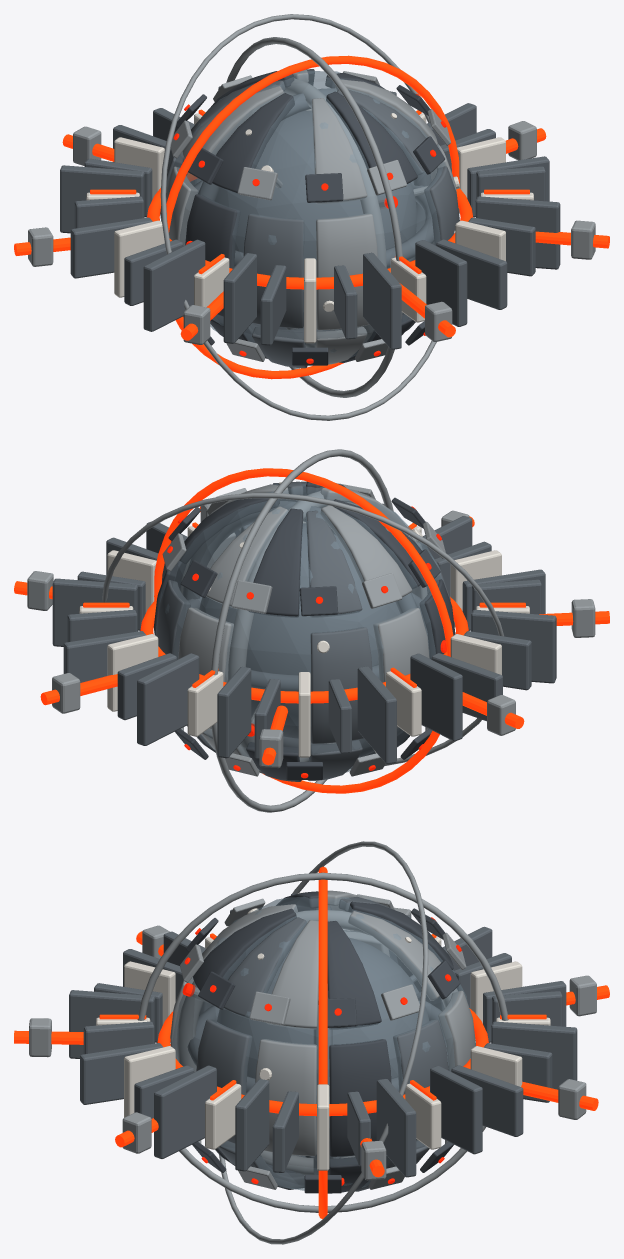
File: orbit-star-ultra.glb
3 renders of one model, top to bottom at view 1: azimuth 30°, elevation 25°; view 2: azimuth 150°, elevation 25°; view 3: azimuth 270°, elevation 25°, orthographic.
Parts seen in each view (by area): view 1: ReactorSun_Cage, ReactorSun_Nucleus, ReactorSun_EnergyRing_01, ReactorSun_EnergyRing_03, ReactorSun_ArmourTile_01_02, ReactorSun_ArmourTile_01_01, ReactorSun_Radiator_20, ReactorSun_EnergyRing_02, ReactorSun_ArmourTile_00_00, ReactorSun_ArmourTile_00_02, ReactorSun_Radiator_32, ReactorSun_Radiator_28 (+51 smaller); view 2: ReactorSun_Cage, ReactorSun_Nucleus, ReactorSun_EnergyRing_01, ReactorSun_ArmourTile_01_10, ReactorSun_Radiator_08, ReactorSun_EnergyRing_02, ReactorSun_ArmourTile_00_09, ReactorSun_EnergyRing_03, ReactorSun_Radiator_16, ReactorSun_ArmourTile_00_10, ReactorSun_Radiator_20, ReactorSun_Radiator_14 (+55 smaller); view 3: ReactorSun_Cage, ReactorSun_EnergyRing_02, ReactorSun_Nucleus, ReactorSun_ArmourTile_01_06, ReactorSun_ArmourTile_01_05, ReactorSun_Radiator_32, ReactorSun_ArmourTile_00_05, ReactorSun_EnergyRing_03, ReactorSun_Radiator_04, ReactorSun_ArmourTile_00_06, ReactorSun_ArmourTile_00_04, ReactorSun_Radiator_08 (+54 smaller).
Boxes of the visible parts, x1,y1,x2,y2 form: ReactorSun_Cage: [167, 71, 452, 363]; ReactorSun_Nucleus: [215, 110, 416, 268]; ReactorSun_EnergyRing_01: [166, 55, 459, 379]; ReactorSun_EnergyRing_03: [160, 14, 436, 420]; ReactorSun_ArmourTile_01_02: [315, 213, 377, 330]; ReactorSun_ArmourTile_01_01: [243, 213, 304, 328]; ReactorSun_Radiator_20: [143, 239, 205, 331]; ReactorSun_EnergyRing_02: [226, 37, 402, 397]; ReactorSun_ArmourTile_00_00: [212, 93, 294, 195]; ReactorSun_ArmourTile_00_02: [311, 98, 367, 204]; ReactorSun_Radiator_32: [475, 196, 560, 269]; ReactorSun_Radiator_28: [415, 240, 467, 326]; ReactorSun_Cage: [160, 483, 442, 772]; ReactorSun_Nucleus: [199, 523, 399, 738]; ReactorSun_EnergyRing_01: [154, 468, 453, 793]; ReactorSun_ArmourTile_01_10: [310, 627, 372, 743]; ReactorSun_Radiator_08: [137, 653, 199, 745]; ReactorSun_EnergyRing_02: [211, 449, 393, 812]; ReactorSun_ArmourTile_00_09: [248, 508, 303, 617]; ReactorSun_EnergyRing_03: [102, 493, 503, 768]; ReactorSun_Radiator_16: [410, 653, 462, 741]; ReactorSun_ArmourTile_00_10: [306, 510, 362, 617]; ReactorSun_Radiator_20: [471, 609, 556, 683]; ReactorSun_Radiator_14: [357, 666, 396, 764]; ReactorSun_Cage: [172, 897, 467, 1190]; ReactorSun_EnergyRing_02: [137, 872, 508, 1212]; ReactorSun_Nucleus: [217, 937, 429, 1078]; ReactorSun_ArmourTile_01_06: [329, 1039, 391, 1156]; ReactorSun_ArmourTile_01_05: [255, 1039, 317, 1156]; ReactorSun_Radiator_32: [154, 1065, 216, 1158]; ReactorSun_ArmourTile_00_05: [266, 920, 318, 1029]; ReactorSun_EnergyRing_03: [219, 841, 428, 1244]; ReactorSun_Radiator_04: [430, 1066, 482, 1154]; ReactorSun_ArmourTile_00_06: [327, 921, 381, 1029]; ReactorSun_ArmourTile_00_04: [224, 917, 306, 1020]; ReactorSun_Radiator_08: [491, 1021, 577, 1089].
Size of the model in its own units: 12.23 by 7.69 by 12.05.
